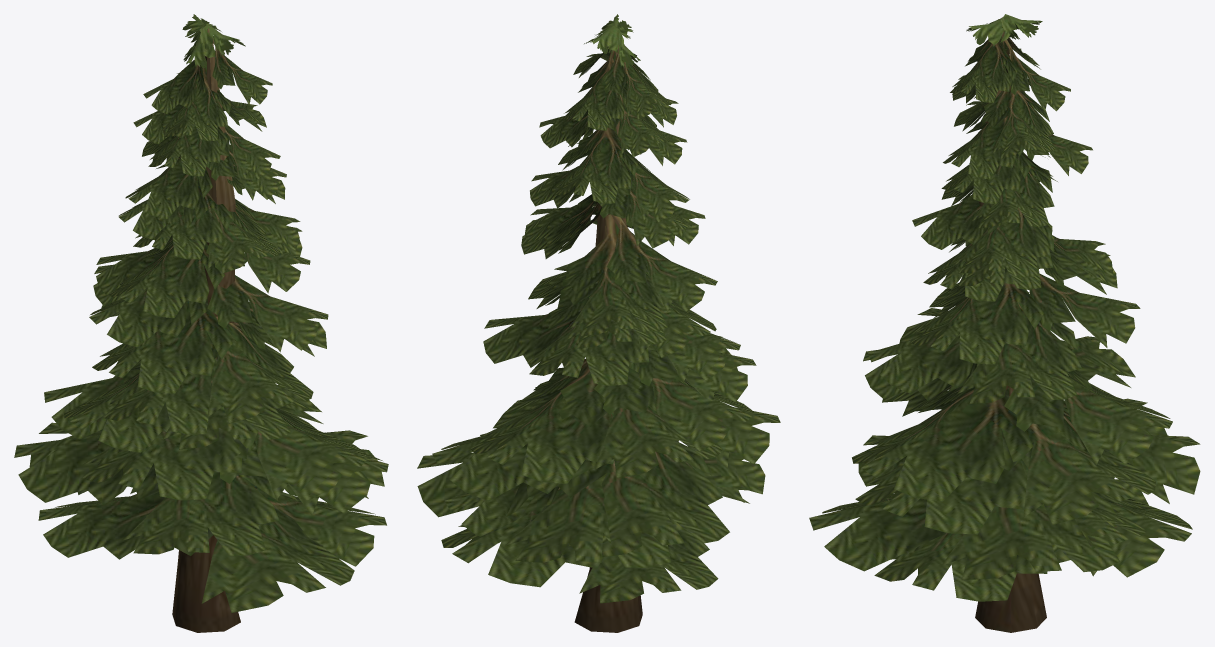
File: Tree_low.fbx
The picture shows the model from 3 angles, left to right: view 1: azimuth 30°, elevation 25°; view 2: azimuth 150°, elevation 25°; view 3: azimuth 270°, elevation 25°; orthographic projection.
Visible parts, largest first — view 1: Branch05, Branch02, Branch12, Branch18, Branch20, Branch11, Tree_low, Branch00, Branch08, Branch26, Branch22, Branch17 (+27 smaller); view 2: Branch08, Branch13, Branch07, Branch14, Branch25, Branch15, Branch21, Branch00, Branch03, Branch26, Branch10, Branch36 (+25 smaller); view 3: Branch11, Branch10, Branch06, Branch13, Branch19, Branch22, Branch09, Branch02, Branch01, Branch21, Branch29, Branch18 (+20 smaller).
Boxes of the visible parts, x1=… form: Branch05: x1=122, y1=472, x2=279, y2=555; Branch02: x1=146, y1=478, x2=354, y2=612; Branch12: x1=81, y1=419, x2=258, y2=500; Branch18: x1=188, y1=316, x2=313, y2=423; Branch20: x1=92, y1=297, x2=232, y2=393; Branch11: x1=232, y1=407, x2=368, y2=500; Tree_low: x1=172, y1=28, x2=240, y2=632; Branch00: x1=38, y1=492, x2=165, y2=559; Branch08: x1=14, y1=434, x2=157, y2=504; Branch26: x1=108, y1=234, x2=224, y2=318; Branch22: x1=207, y1=275, x2=328, y2=352; Branch17: x1=103, y1=355, x2=218, y2=434; Branch08: x1=557, y1=414, x2=729, y2=556; Branch13: x1=470, y1=358, x2=614, y2=484; Branch07: x1=505, y1=473, x2=684, y2=568; Branch14: x1=559, y1=371, x2=722, y2=478; Branch25: x1=562, y1=214, x2=667, y2=336; Branch15: x1=594, y1=367, x2=754, y2=451; Branch21: x1=527, y1=295, x2=652, y2=385; Branch00: x1=579, y1=529, x2=718, y2=603; Branch03: x1=441, y1=507, x2=603, y2=587; Branch26: x1=606, y1=215, x2=717, y2=311; Branch10: x1=432, y1=408, x2=596, y2=501; Branch36: x1=555, y1=127, x2=637, y2=203; Branch11: x1=852, y1=386, x2=1033, y2=501; Branch10: x1=1000, y1=396, x2=1156, y2=524; Branch06: x1=924, y1=459, x2=1119, y2=580; Branch13: x1=1004, y1=373, x2=1172, y2=464; Branch19: x1=950, y1=303, x2=1081, y2=404; Branch22: x1=910, y1=273, x2=1043, y2=364; Branch09: x1=855, y1=409, x2=1033, y2=534; Branch02: x1=809, y1=493, x2=945, y2=571; Branch01: x1=874, y1=533, x2=1047, y2=601; Branch21: x1=1029, y1=274, x2=1140, y2=347; Branch29: x1=954, y1=207, x2=1052, y2=277; Branch18: x1=868, y1=335, x2=978, y2=393.
Bounding box in the file's own units: 3.01 × 3.16 × 5.36.
